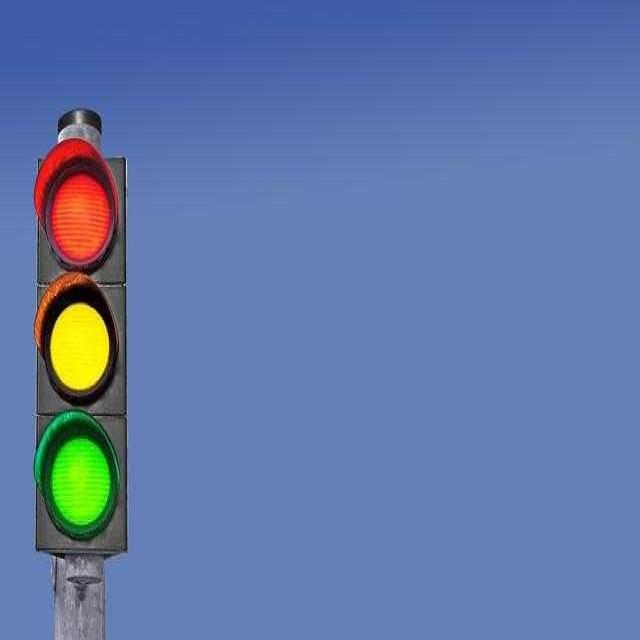Traffic Light -Green-: (36, 410, 126, 550)
Traffic Light -Red-: (34, 138, 124, 273)
Traffic Light -Yellow-: (31, 273, 125, 404)
